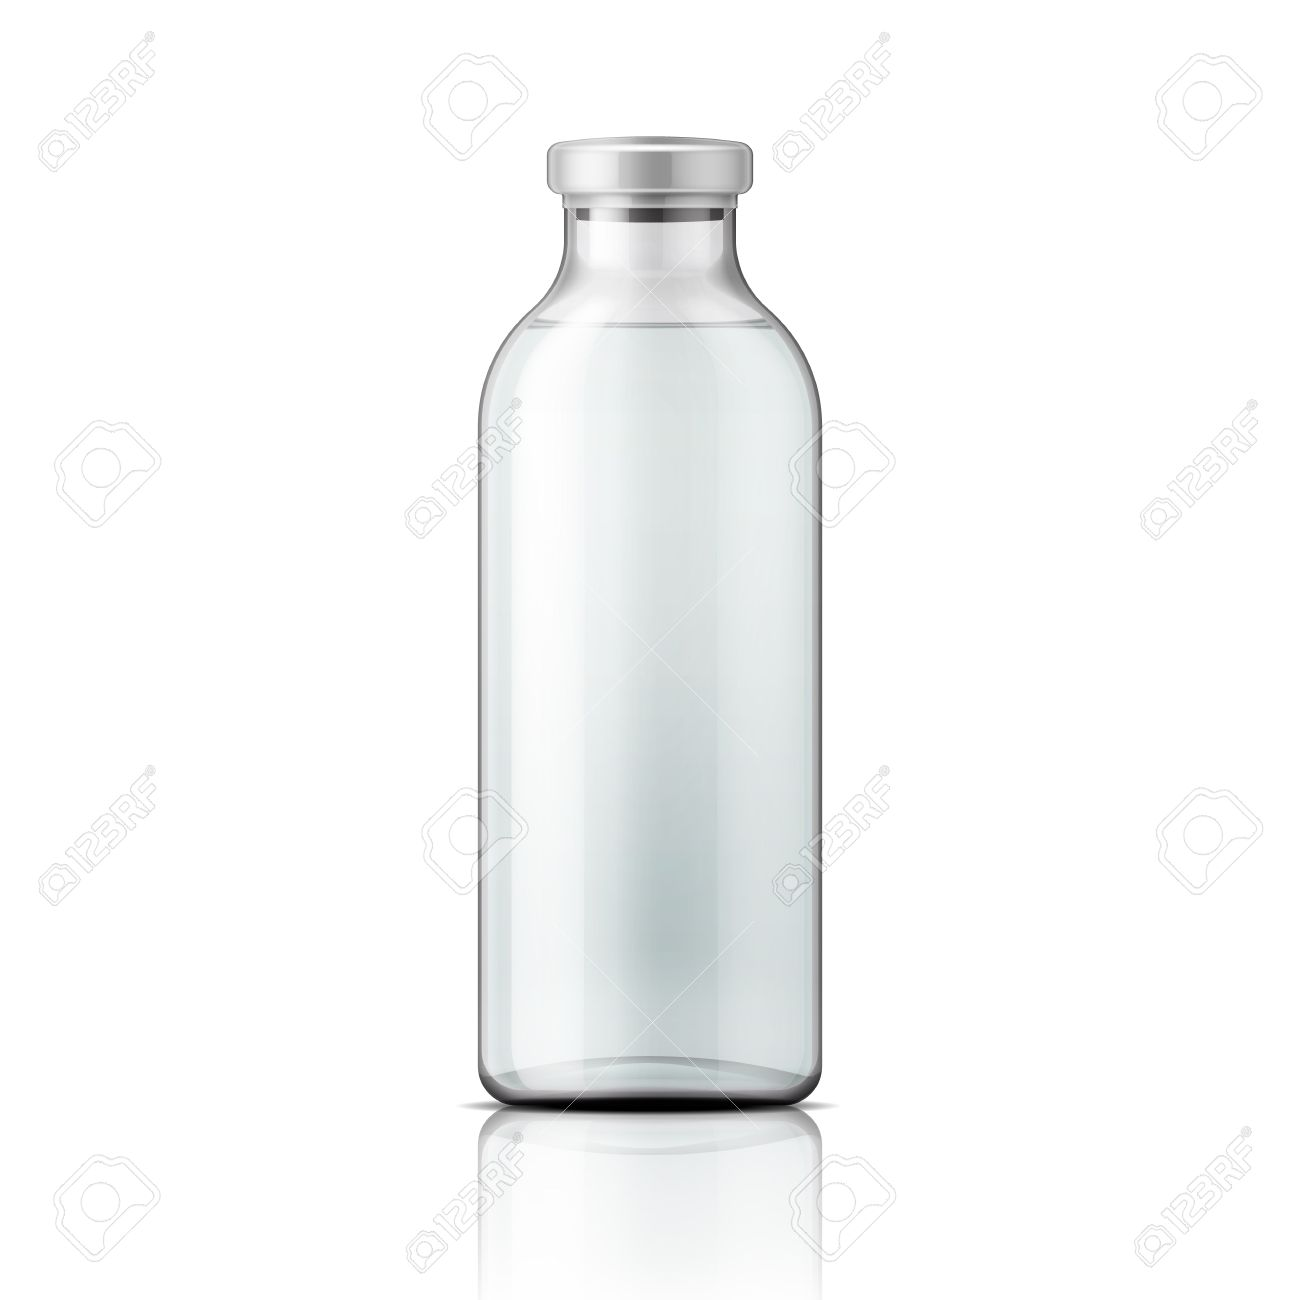glass_bottleww: (385, 29, 888, 1221)
